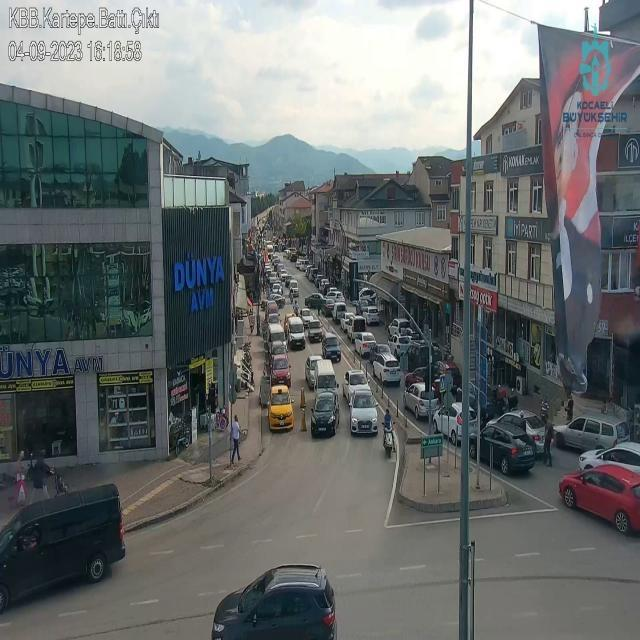Car: (212, 561, 337, 640), (557, 462, 640, 536), (468, 420, 534, 474), (553, 414, 628, 454), (576, 440, 640, 476), (432, 402, 480, 442), (309, 390, 341, 438), (346, 389, 379, 435), (448, 381, 488, 418), (403, 382, 439, 419), (267, 387, 295, 432), (342, 369, 372, 405), (370, 353, 402, 385), (404, 365, 442, 390), (269, 355, 292, 386), (304, 354, 326, 386), (388, 334, 415, 358), (353, 331, 378, 356), (367, 342, 394, 364), (321, 334, 341, 362), (388, 317, 412, 338), (360, 306, 381, 326), (339, 312, 356, 335), (299, 308, 316, 328), (306, 293, 326, 309), (325, 290, 344, 306), (322, 300, 337, 316), (270, 294, 286, 308), (266, 300, 279, 316), (267, 313, 281, 327)
Van: (0, 481, 130, 615), (286, 318, 306, 347), (264, 324, 286, 349), (305, 318, 324, 343), (329, 302, 347, 325), (358, 287, 378, 305)
